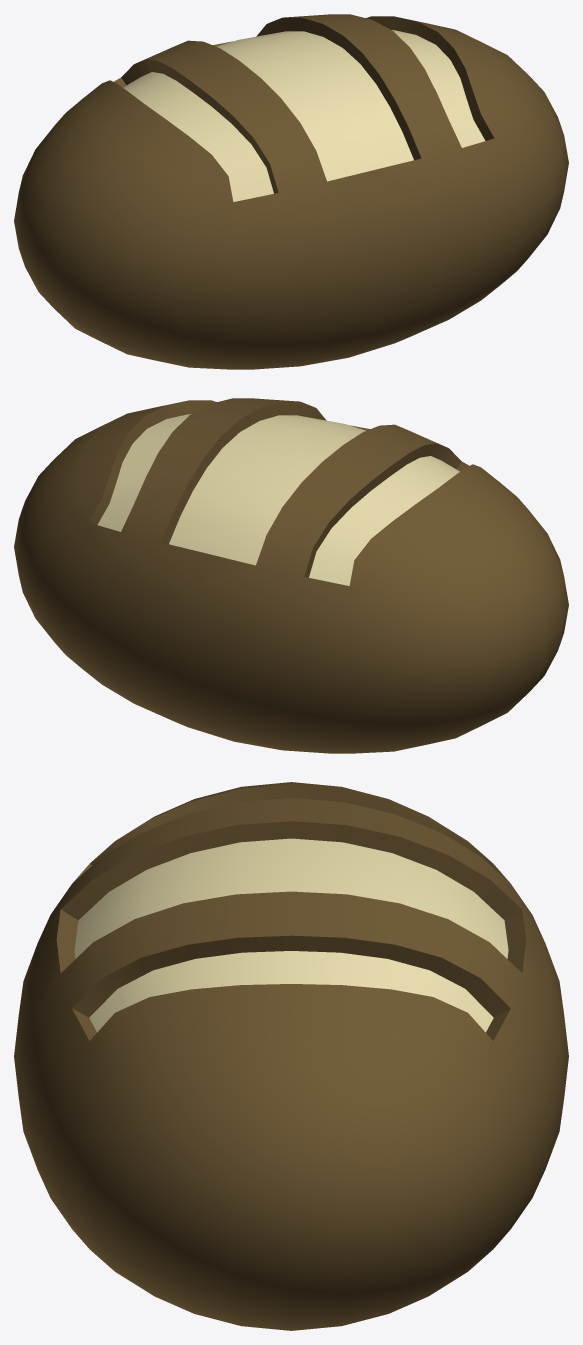
Rendered from Bread.fbx.
3 views of the same model, one above another, from view 1: azimuth 30°, elevation 25°; view 2: azimuth 150°, elevation 25°; view 3: azimuth 270°, elevation 25° (orthographic). The views are drawn at different scales.
Parts seen in each view (by area): view 1: pCube1; view 2: pCube1; view 3: pCube1.
Boxes of the visible parts, bbox=[...] form: pCube1: bbox=[14, 14, 568, 369]; pCube1: bbox=[14, 398, 568, 753]; pCube1: bbox=[14, 782, 568, 1330].
Bounding box in the file's own units: 0.7381 × 0.4005 × 0.4988.
